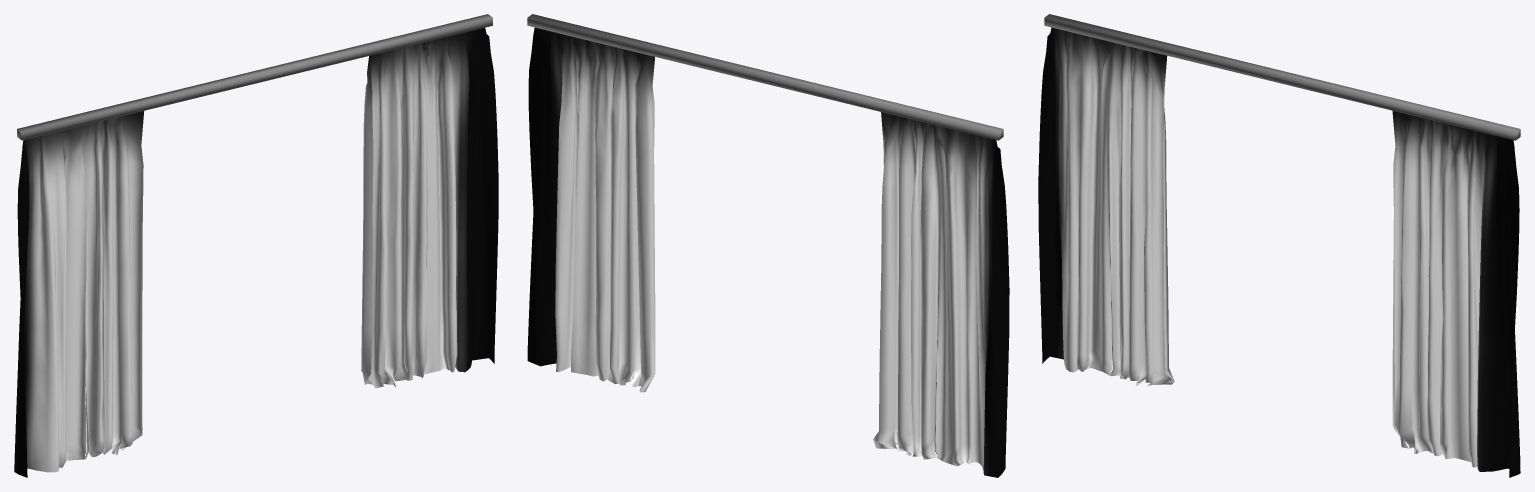
The model's file is Curtains.fbx.
3 views of the same model, side by side, from view 1: azimuth 30°, elevation 25°; view 2: azimuth 150°, elevation 25°; view 3: azimuth 330°, elevation 25° (orthographic).
Visible parts, largest first — view 1: Curtains; view 2: Curtains; view 3: Curtains.
Boxes of the visible parts, x1,y1,x2,y2 form: Curtains: (14,14,498,477); Curtains: (527,14,1009,477); Curtains: (1038,14,1520,477).
Size of the model in its own units: 389 by 267 by 19.76.
